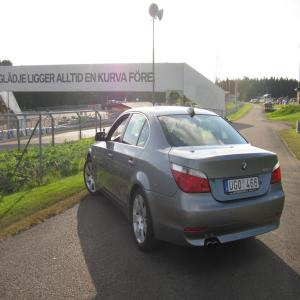Vehicle-registration-plate: (223, 179, 261, 196)
